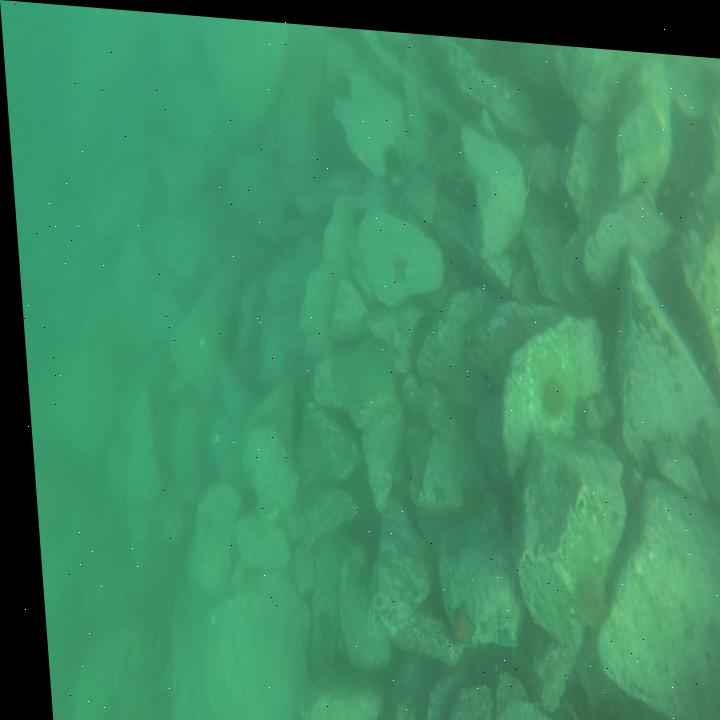echinus: (563, 558, 598, 620), (536, 372, 561, 412), (454, 170, 479, 209), (381, 136, 405, 173), (333, 63, 351, 95), (349, 199, 368, 226)
starfish: (439, 591, 470, 648), (389, 243, 410, 281)
